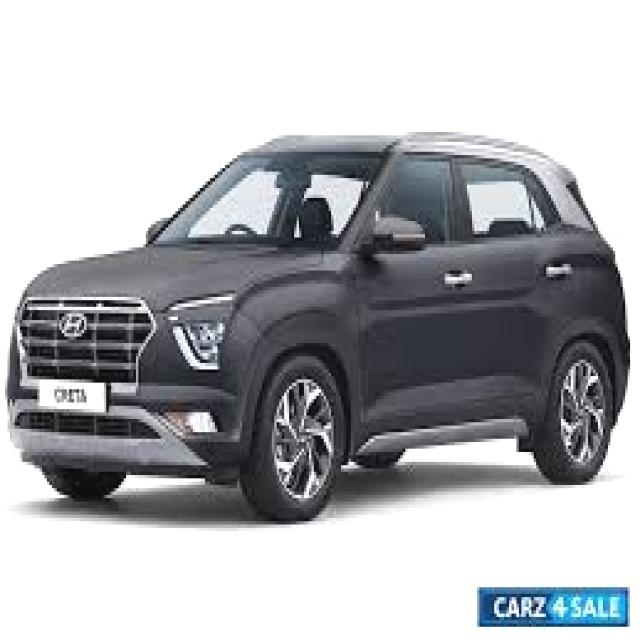SUV: (10, 120, 625, 518)
